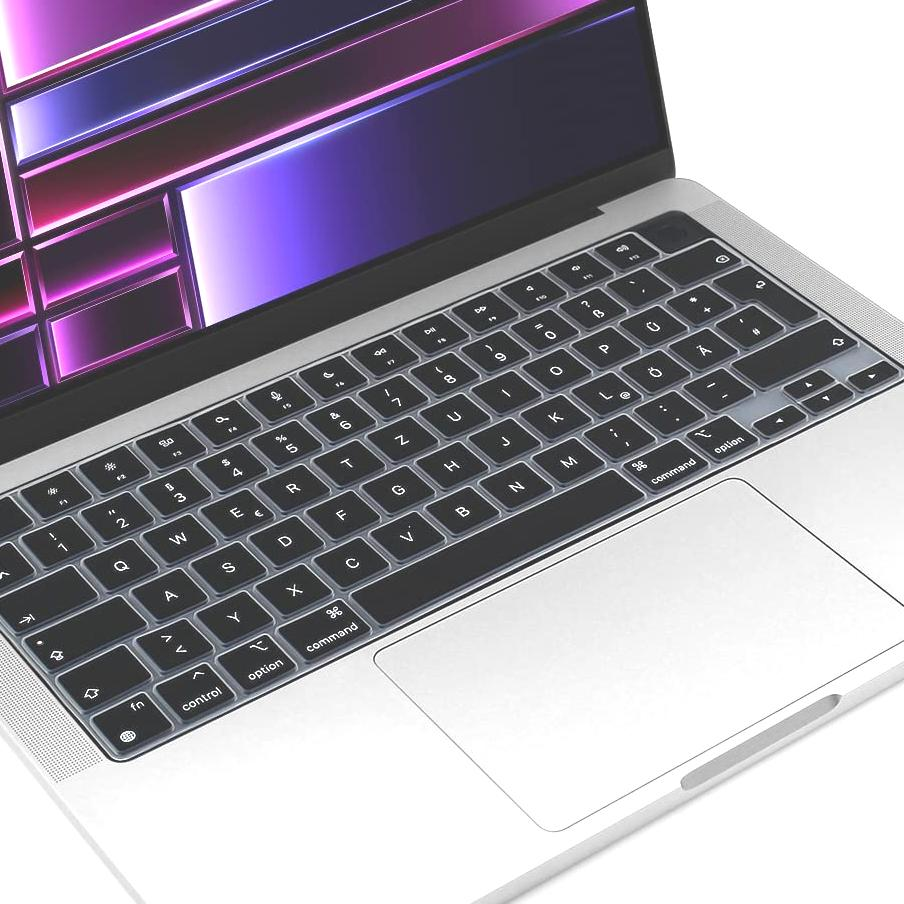0: (506, 306, 578, 348)
1: (16, 513, 95, 563)
2: (76, 488, 153, 537)
3: (133, 464, 211, 512)
4: (189, 440, 267, 487)
5: (244, 417, 322, 463)
6: (299, 394, 376, 438)
7: (352, 371, 428, 414)
8: (405, 348, 480, 393)
9: (455, 327, 530, 370)
a: (128, 565, 209, 618)
accent: (603, 265, 672, 304)
ae: (666, 326, 736, 368)
alt-left: (215, 632, 298, 690)
altgr-right: (681, 413, 758, 459)
b: (421, 484, 500, 532)
c: (309, 535, 390, 587)
caret: (1, 538, 38, 594)
comma: (580, 411, 656, 456)
d: (244, 513, 324, 565)
del: (649, 239, 741, 289)
e: (196, 486, 274, 535)
enter: (708, 263, 819, 324)
f: (302, 487, 379, 536)
g: (358, 463, 435, 512)
h: (413, 439, 487, 486)
hash: (713, 302, 784, 346)
i: (468, 367, 542, 411)
j: (466, 415, 541, 462)
k: (518, 391, 592, 436)
keyboard: (1, 204, 901, 773)
l: (569, 369, 638, 414)
less: (129, 616, 213, 670)
m: (527, 435, 605, 483)
minus: (681, 367, 753, 408)
n: (476, 459, 553, 507)
o: (518, 346, 592, 389)
oe: (619, 348, 688, 391)
p: (568, 324, 640, 367)
plus: (663, 282, 734, 321)
point: (632, 389, 705, 431)
q: (79, 537, 159, 588)
r: (252, 462, 330, 509)
s: (187, 539, 267, 590)
shift-left: (57, 641, 152, 712)
shift-lock: (23, 593, 147, 670)
shift-right: (724, 316, 857, 388)
space: (350, 461, 648, 630)
ss: (556, 284, 627, 326)
strg-left: (154, 661, 241, 725)
t: (308, 437, 385, 483)
tab: (1, 563, 97, 632)
u: (415, 390, 491, 434)
ue: (615, 303, 689, 345)
v: (365, 509, 446, 559)
w: (137, 511, 216, 561)
x: (251, 562, 333, 614)
y: (192, 589, 273, 642)
z: (362, 414, 439, 458)
